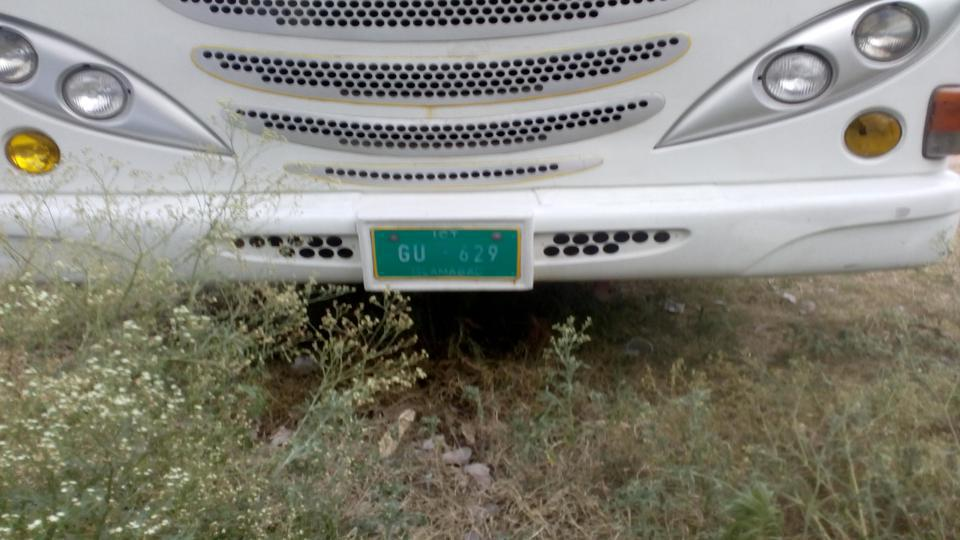NumberPlate: (365, 219, 527, 288)
